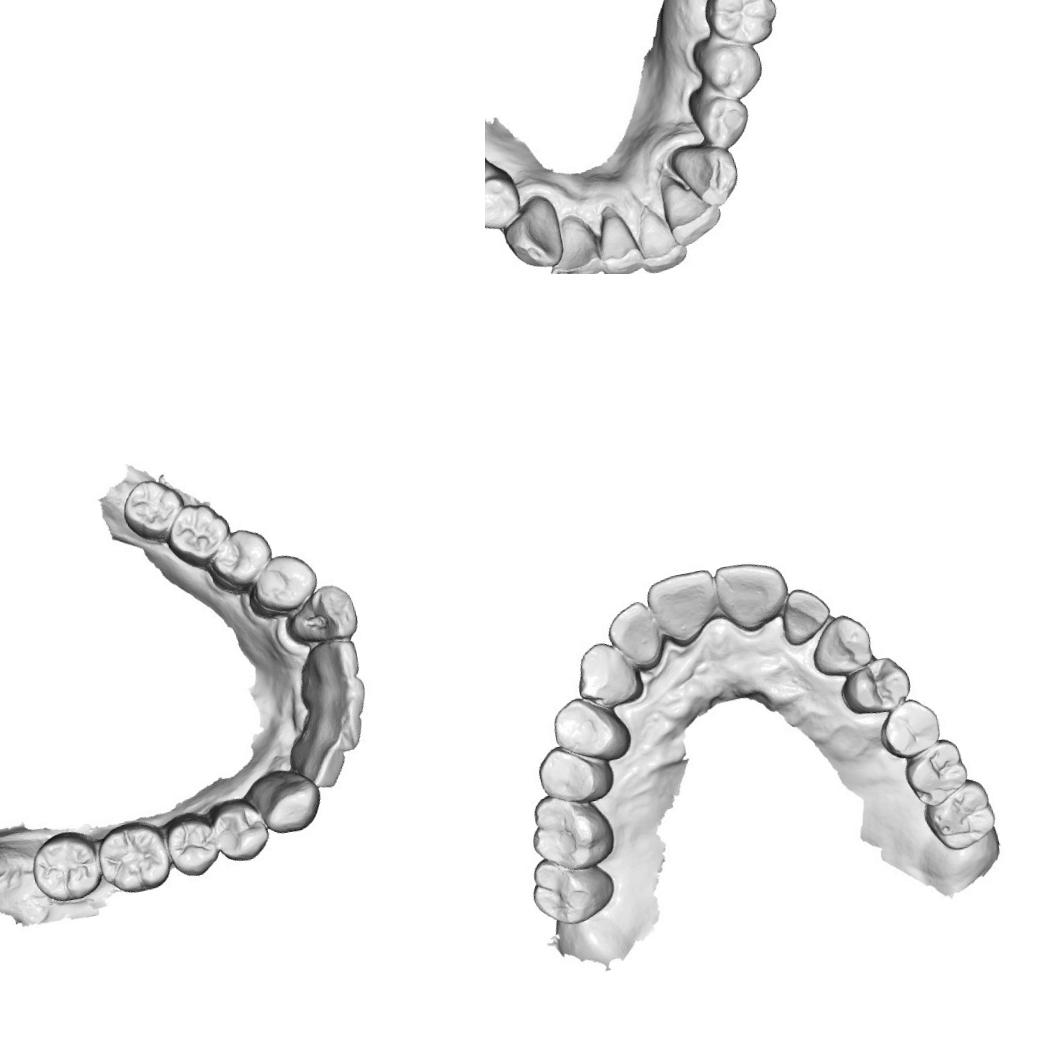canine: (276, 578, 366, 648), (248, 764, 325, 838), (803, 608, 880, 682), (668, 133, 741, 210), (571, 636, 638, 708), (499, 194, 564, 266)
incisor: (639, 564, 727, 648), (715, 552, 791, 632), (600, 594, 665, 674), (630, 193, 689, 274), (657, 165, 716, 240), (774, 580, 836, 644), (592, 206, 647, 274), (541, 220, 609, 274), (303, 708, 371, 760), (290, 733, 348, 793), (301, 636, 362, 692), (316, 672, 376, 724)
molar: (526, 847, 622, 933), (523, 788, 615, 871), (914, 774, 1002, 860), (93, 814, 176, 898), (25, 824, 105, 908), (114, 469, 192, 546), (158, 494, 240, 567), (903, 740, 971, 809), (704, 0, 779, 48)
premolar: (548, 692, 633, 767), (242, 549, 324, 621), (204, 792, 274, 866), (204, 523, 276, 592), (535, 740, 607, 808), (878, 694, 948, 762), (840, 656, 912, 718), (160, 810, 223, 880), (699, 39, 763, 100), (692, 91, 754, 150), (485, 173, 522, 231)
